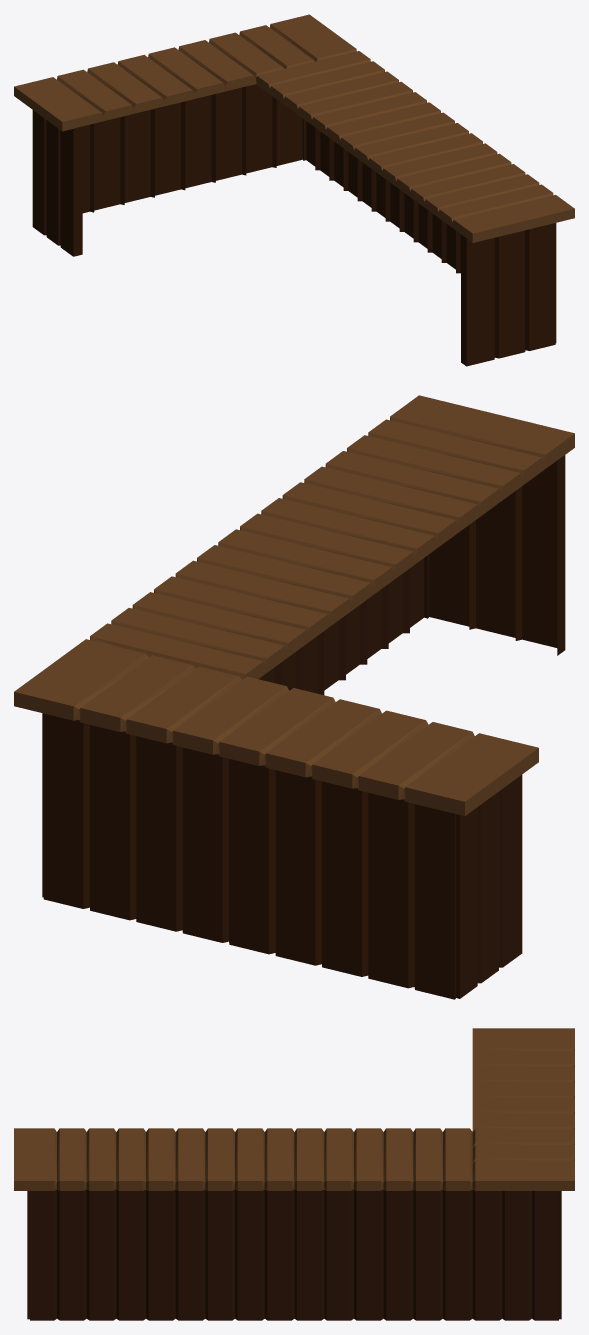
The model's file is Bar 1.FBX.
3 renders of one model, top to bottom at view 1: azimuth 30°, elevation 25°; view 2: azimuth 150°, elevation 25°; view 3: azimuth 270°, elevation 25°, orthographic. The views are drawn at different scales.
Visible parts, largest first — view 1: Bar base, Bar top; view 2: Bar base, Bar top; view 3: Bar base, Bar top.
Part boxes in pixels (bbox=[...]): Bar base: bbox=[32, 84, 556, 366]; Bar top: bbox=[14, 14, 574, 242]; Bar base: bbox=[42, 455, 565, 999]; Bar top: bbox=[14, 395, 574, 816]; Bar base: bbox=[27, 1189, 561, 1320]; Bar top: bbox=[14, 1028, 574, 1190].
Bounding box in the file's own units: 270 × 120 × 420.
